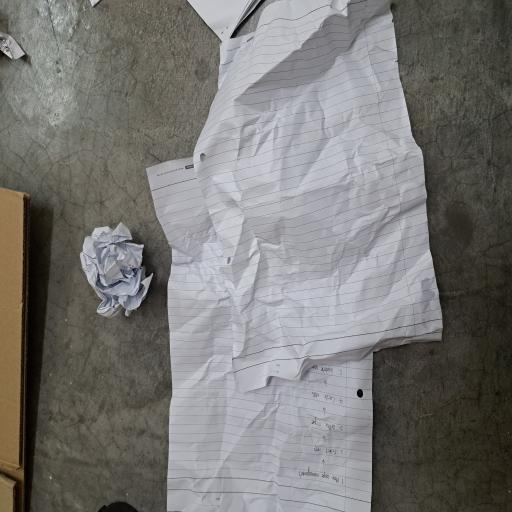cardboard: (0, 0, 248, 50)
paper: (0, 195, 384, 512), (145, 101, 216, 199)
